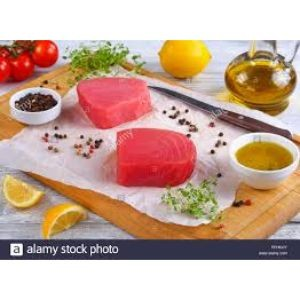tuna_brain food: (105, 128, 196, 194), (84, 69, 146, 119)
